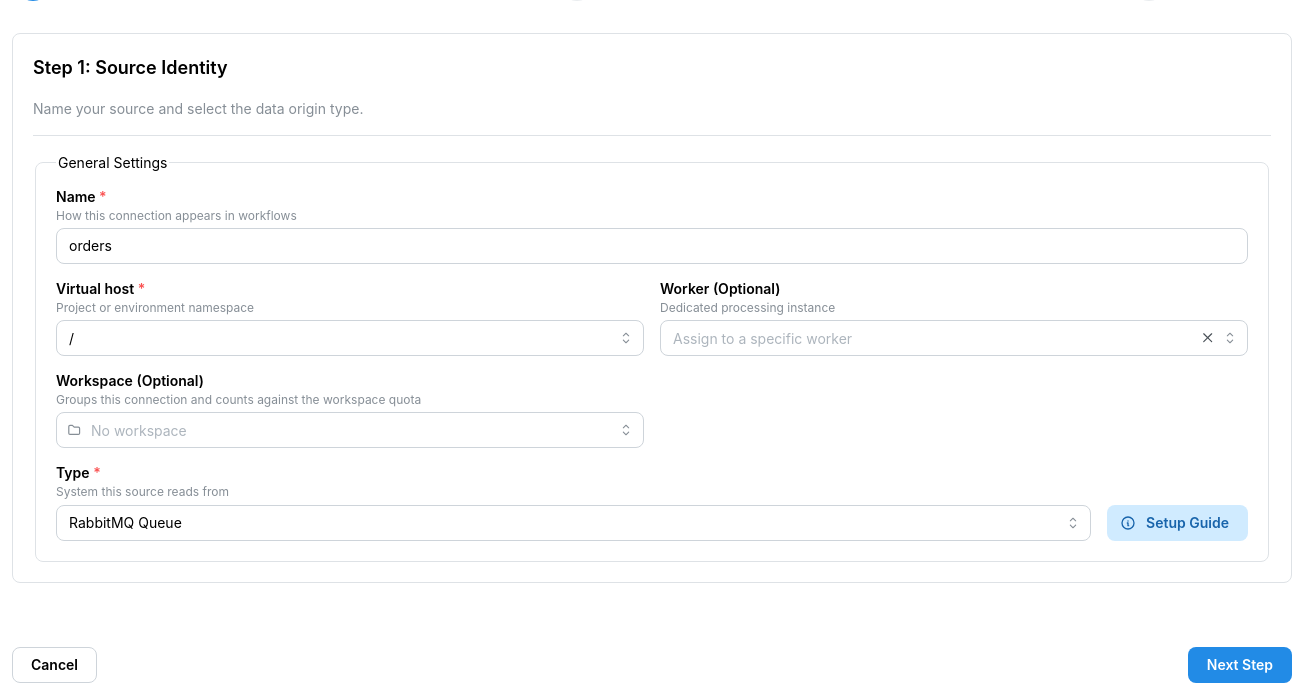
Test: rabbitmq queue connection step › still blocks, and says why, when the queue name is missing
Step 1. Click the button "Next Step" → (1240, 664), box [1188,646,1292,682]
(page scrolled)
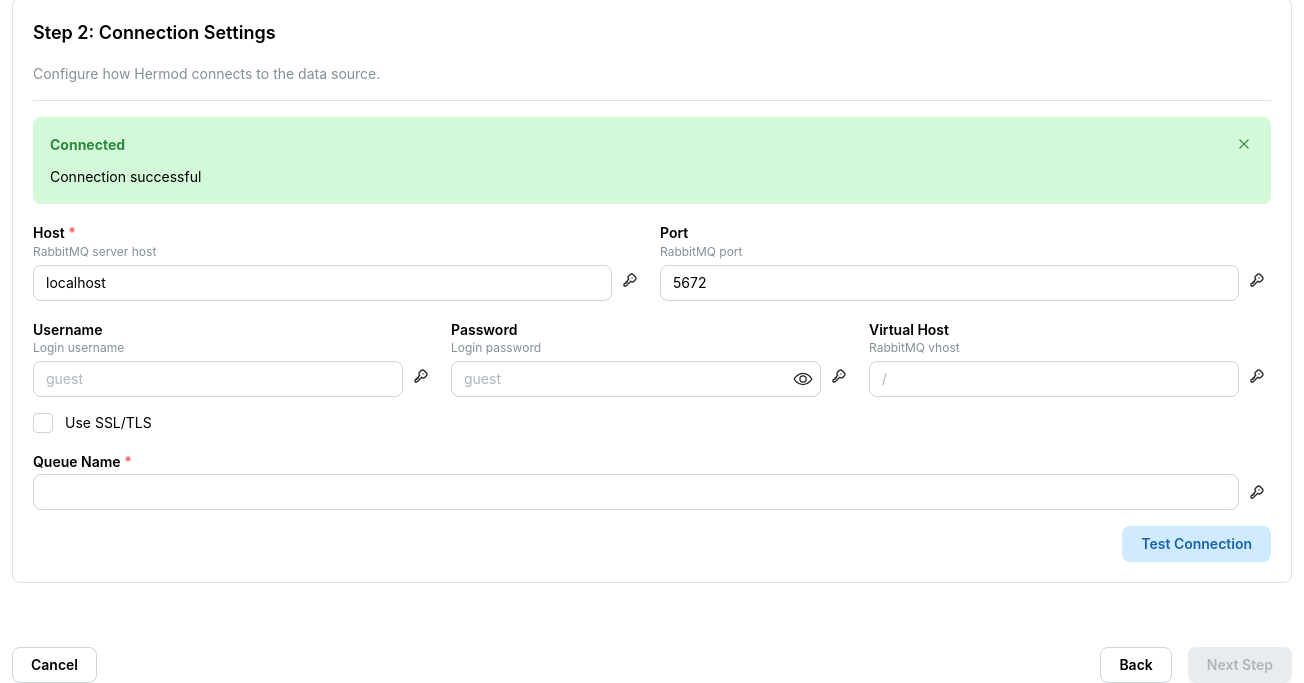
Expected: the text "Step 2: Connection Settings" is shown, [33,22,276,43]
Expected: the button "Next Step" is disabled, [1188,647,1292,682]
